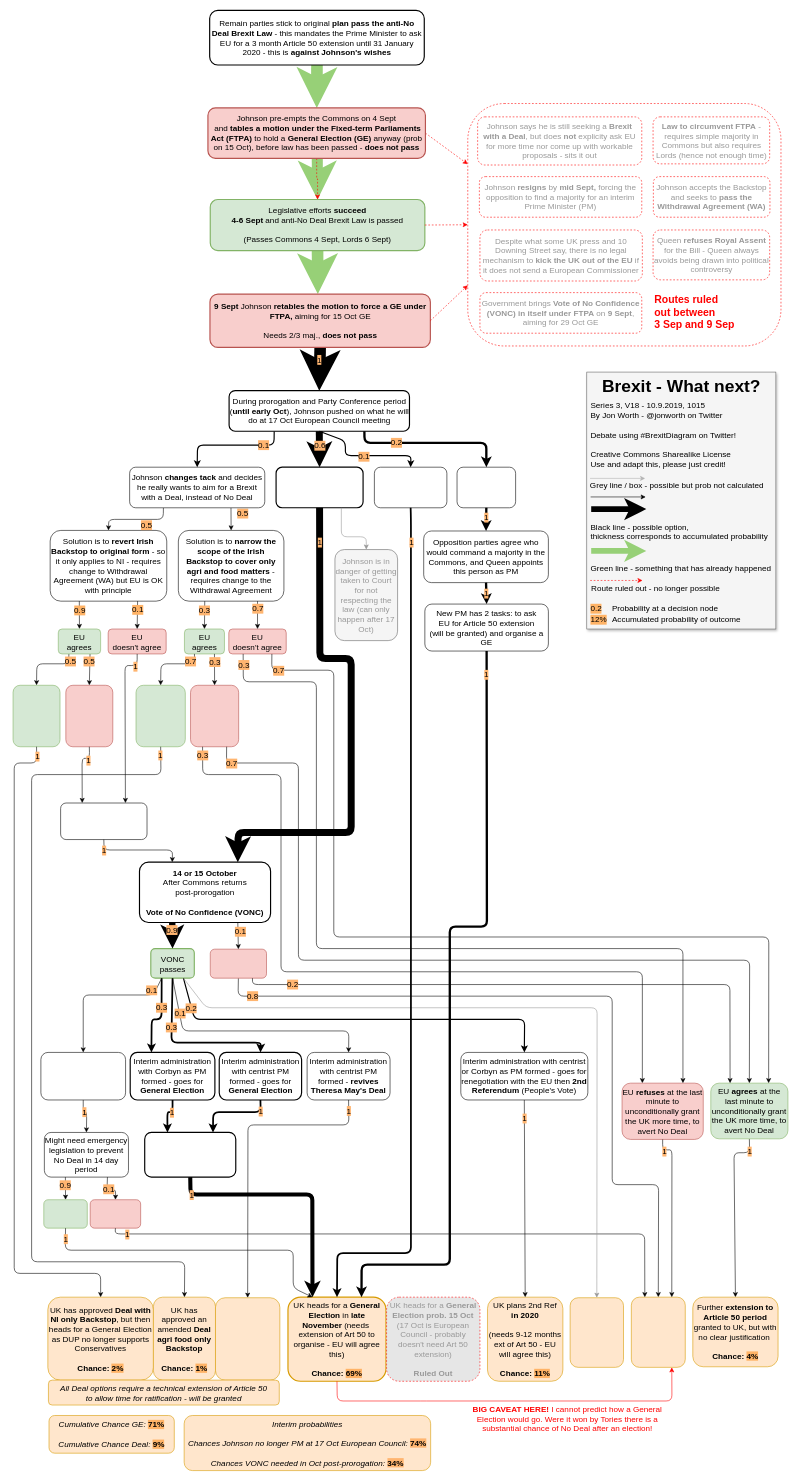
Image size: 798x1481. Some labels were removed from this diagram. The shapes that lost their labels are listed below. From the top down, each one's centre as x and y in pixels, then its label:
(319,487): Johnson continues to refuse to request Article 50 is extended
(410,487): Johnson agrees to request Article 50 is extended
(486,487): Johnson resigns prior to 14 Oct
(36,716): Commons votes in favour of Deal with original backstop
(89,716): Commons votes against Deal with original backstop
(160,716): Commons votes in favour of Deal with agrifood backstop
(214,716): Commons votes against Deal with agrifood backstop
(103,821): Democratic Unionist Party (DUP) furious at Johnson's approach
(238,963): VONC doesn't pass
(83,1076): No administration can be formed, so after 14 days UK goes for General Election
(190,1154): Might need emergency legislation to prevent No Deal before 31 Oct - will pass
(65,1213): Legislation passes
(115,1213): Legislation doesn't pass
(247,1338): Brexit with a Deal happens legally but after 31 Oct 2019 Chance: 6%
(597,1332): Commons votes to Revoke Article 50 Chance: -%
(658,1332): No Deal Brexit looms on 31 October 2019 Chance: 7%
